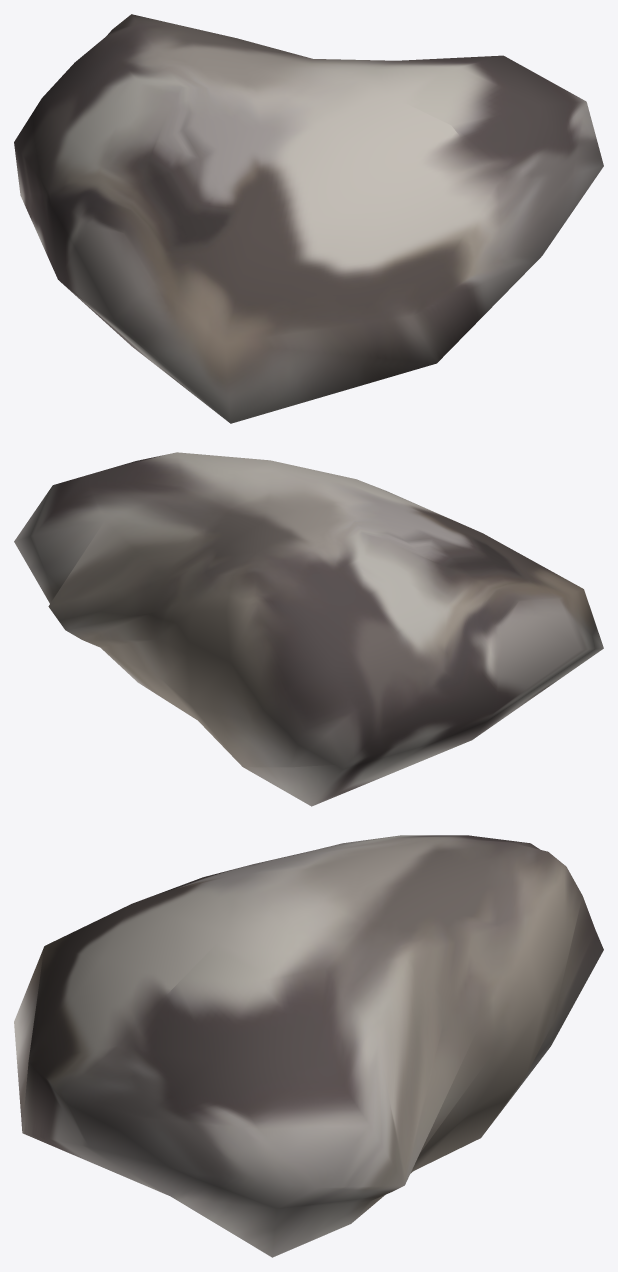
The model's file is Stone_Smal.fbx.
3 views of the same model, one above another, from view 1: azimuth 30°, elevation 25°; view 2: azimuth 150°, elevation 25°; view 3: azimuth 270°, elevation 25° (orthographic). The views are drawn at different scales.
Parts seen in each view (by area): view 1: Stone.005; view 2: Stone.005; view 3: Stone.005.
Part boxes in pixels (left/top/right/bottom): Stone.005: left=14, top=14, right=603, bottom=423; Stone.005: left=14, top=452, right=603, bottom=806; Stone.005: left=14, top=835, right=603, bottom=1257.
Bounding box in the file's own units: 101 × 46.61 × 84.59.
